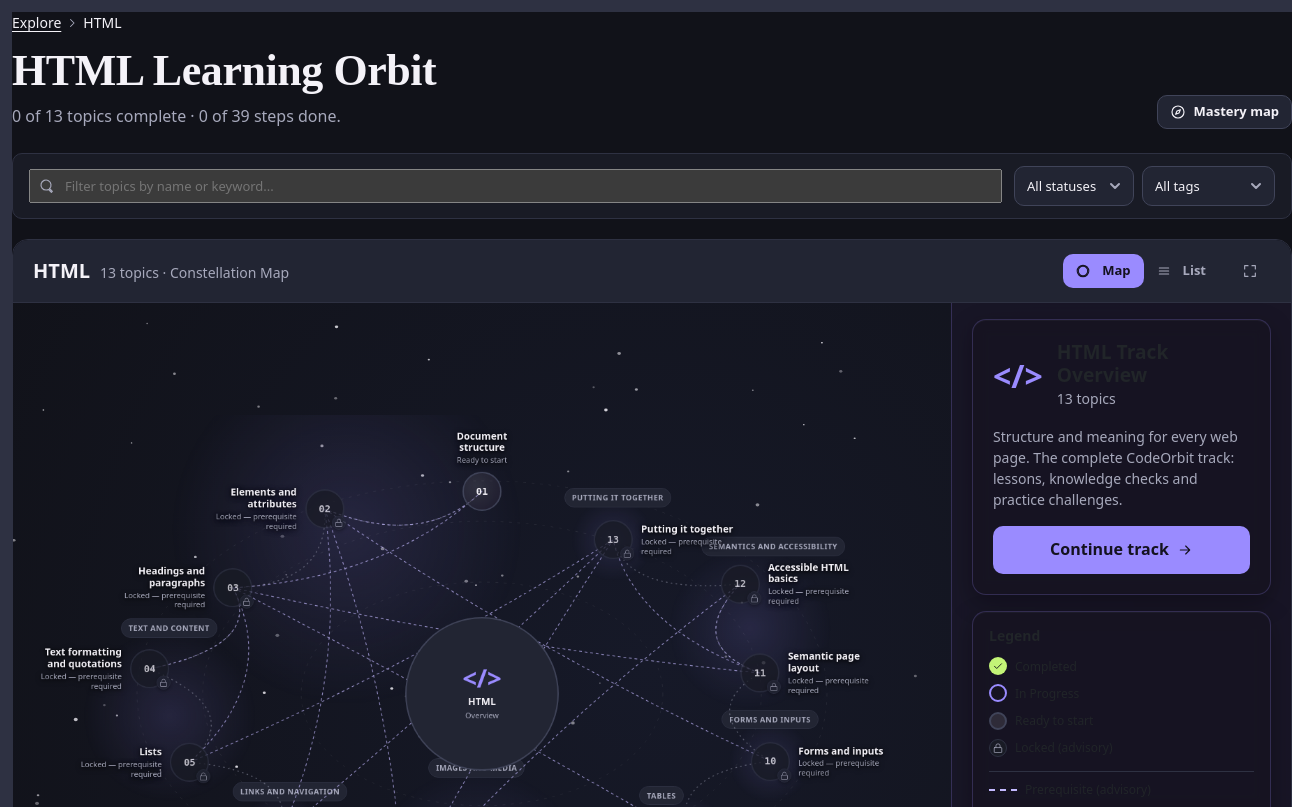
Scenario: URL Filter and Tag System (Catalog 9.3) › updates URL filter parameters when user selects a tag or types search on Track
The width and height of the screenshot is (1292, 807).
In the search field with placeholder "Filter topics by name or keyword...": [516, 186] box [29,169,1002,203], type "headings"
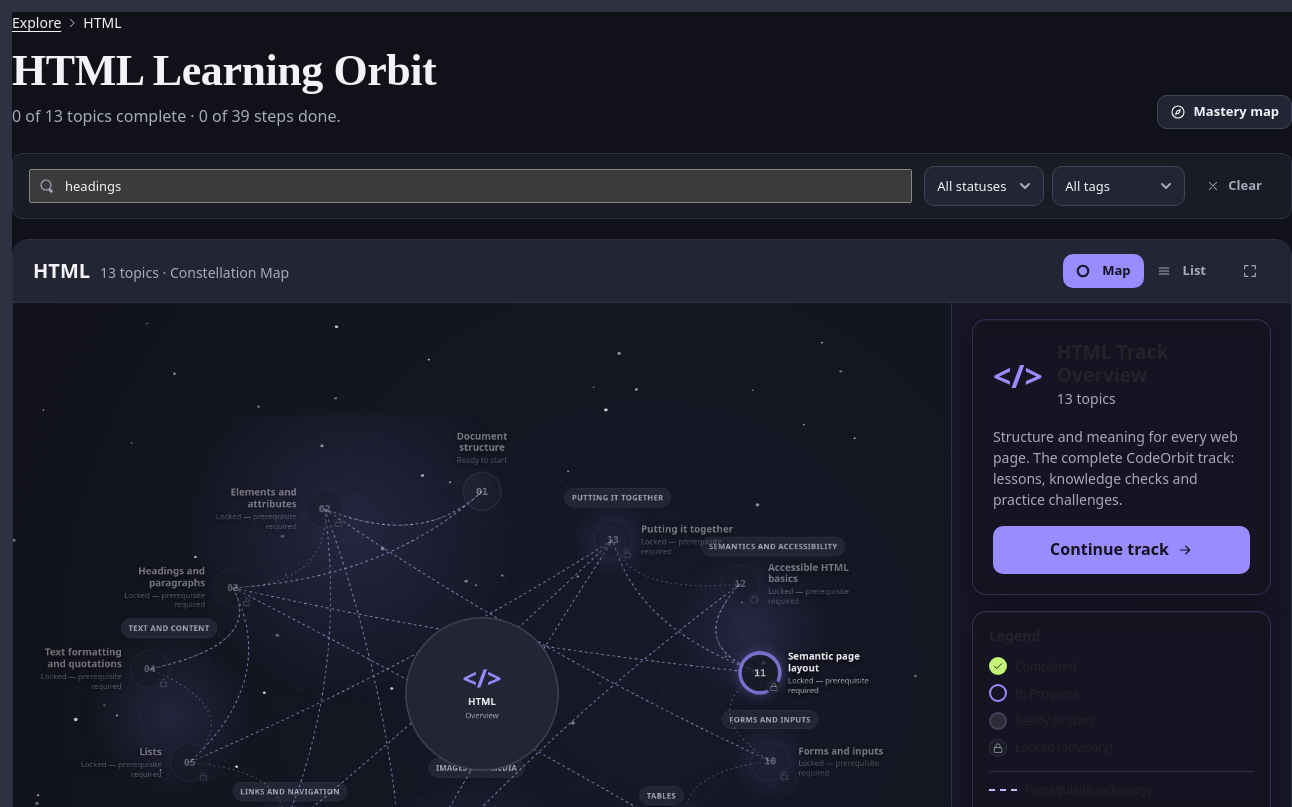
Expected: the button with aria-label "clear active filters" is shown
Click the button with aria-label "clear active filters": [1234, 186] box [1193,169,1275,203]
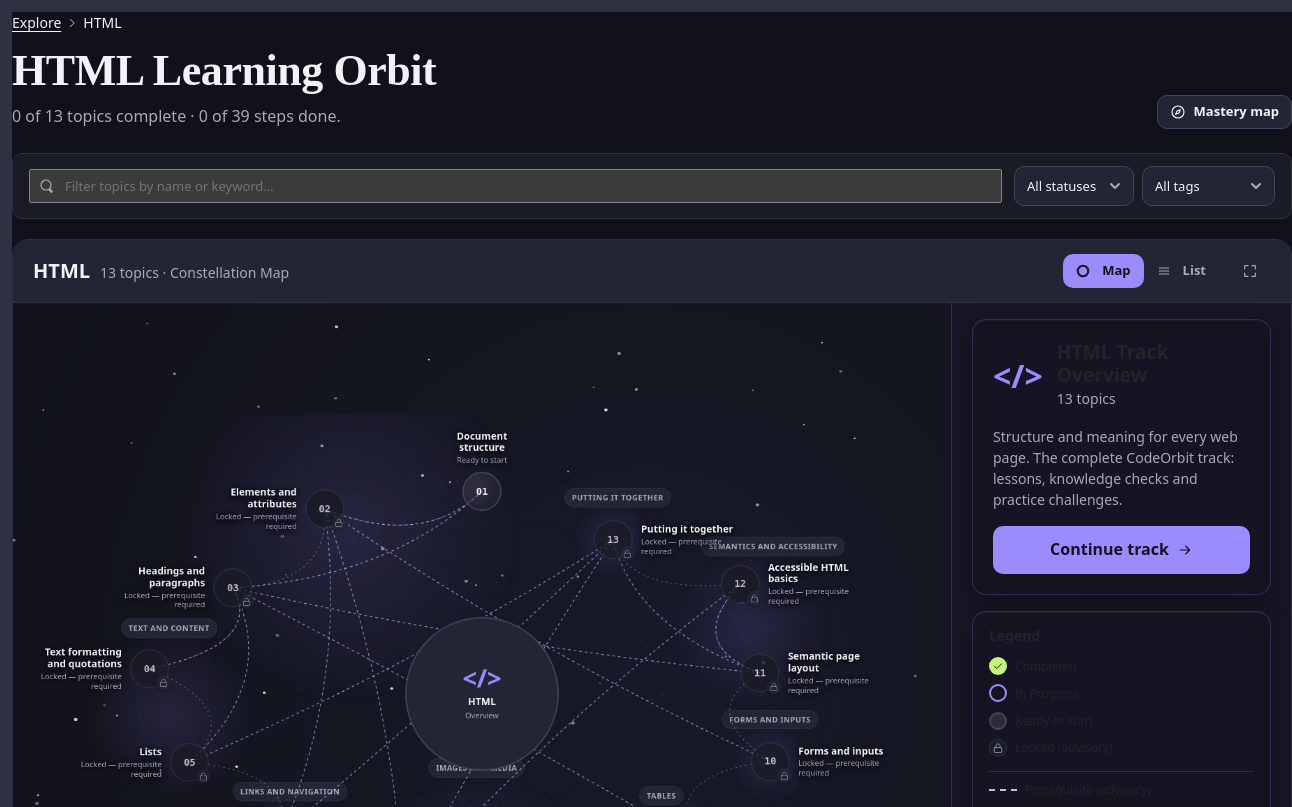
Expected: the search field with placeholder "Filter topics by name or keyword..." is empty, [29,169,1002,203]
